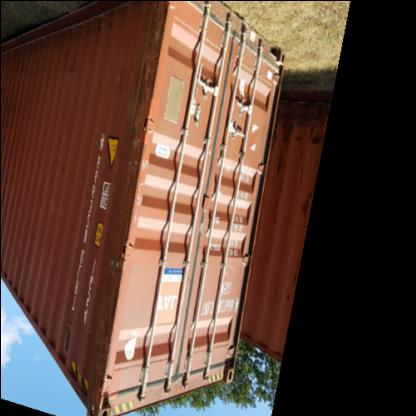Damage: (124, 1, 173, 185), (68, 245, 118, 405), (6, 57, 80, 78), (64, 17, 122, 37)
